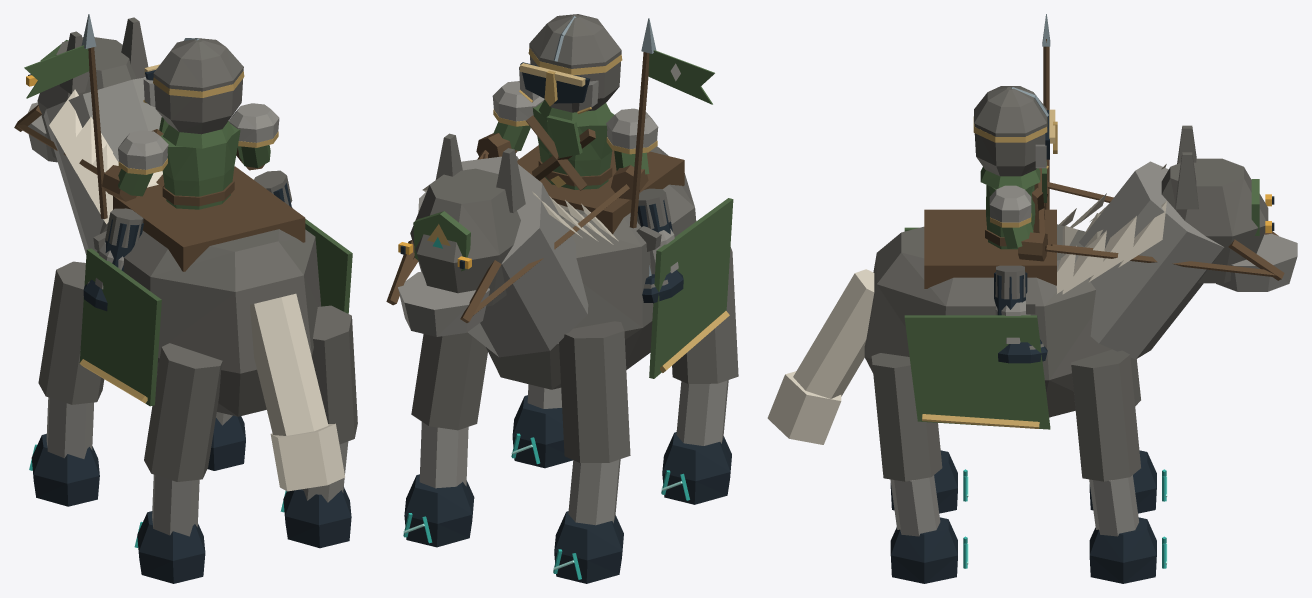
Rendered from Rider.fbx.
3 renders of one model, left to right at view 1: azimuth 30°, elevation 25°; view 2: azimuth 150°, elevation 25°; view 3: azimuth 270°, elevation 25°, orthographic. The views are drawn at different scales.
Visible parts, largest first — view 1: Mount, MountLegBR, MountLegFR, MountLegBL, Head, ArmR, Body, LegR, ArmL, MountLegFL, LegL; view 2: Mount, MountLegFR, MountLegFL, MountLegBR, Head, ArmR, Body, MountLegBL, LegR, ArmL; view 3: Mount, MountLegFL, MountLegBL, Head, ArmL, LegL, Body, MountLegFR, MountLegBR, ArmR.
Boxes of the visible parts, x1,y1,x2,y2 form: Mount: (14, 17, 352, 491); MountLegBR: (134, 343, 222, 583); MountLegFR: (29, 261, 104, 506); MountLegBL: (280, 305, 357, 548); Head: (143, 38, 244, 134); ArmR: (24, 14, 168, 219); Body: (152, 117, 240, 209); LegR: (83, 208, 143, 311); ArmL: (229, 103, 279, 170); MountLegFL: (207, 412, 245, 470); LegL: (254, 170, 292, 208); Mount: (386, 133, 733, 389); MountLegFR: (553, 321, 630, 583); MountLegFL: (403, 332, 487, 547); MountLegBR: (661, 247, 738, 504); Head: (519, 14, 622, 113); ArmR: (606, 18, 714, 228); Body: (526, 99, 614, 190); MountLegBL: (511, 384, 572, 468); LegR: (636, 188, 683, 303); ArmL: (476, 81, 544, 158); Mount: (767, 125, 1297, 444); MountLegFL: (1071, 349, 1167, 583); MountLegBL: (871, 353, 968, 583); Head: (973, 86, 1057, 176); ArmL: (989, 185, 1093, 261); LegL: (994, 265, 1047, 363); Body: (980, 162, 1046, 249); MountLegFR: (1089, 357, 1167, 513); MountLegBR: (890, 450, 968, 513); ArmR: (1042, 14, 1050, 209).
Size of the model in its own units: 0.6957 by 1.3 by 1.3.
1 material, 1 textured.
